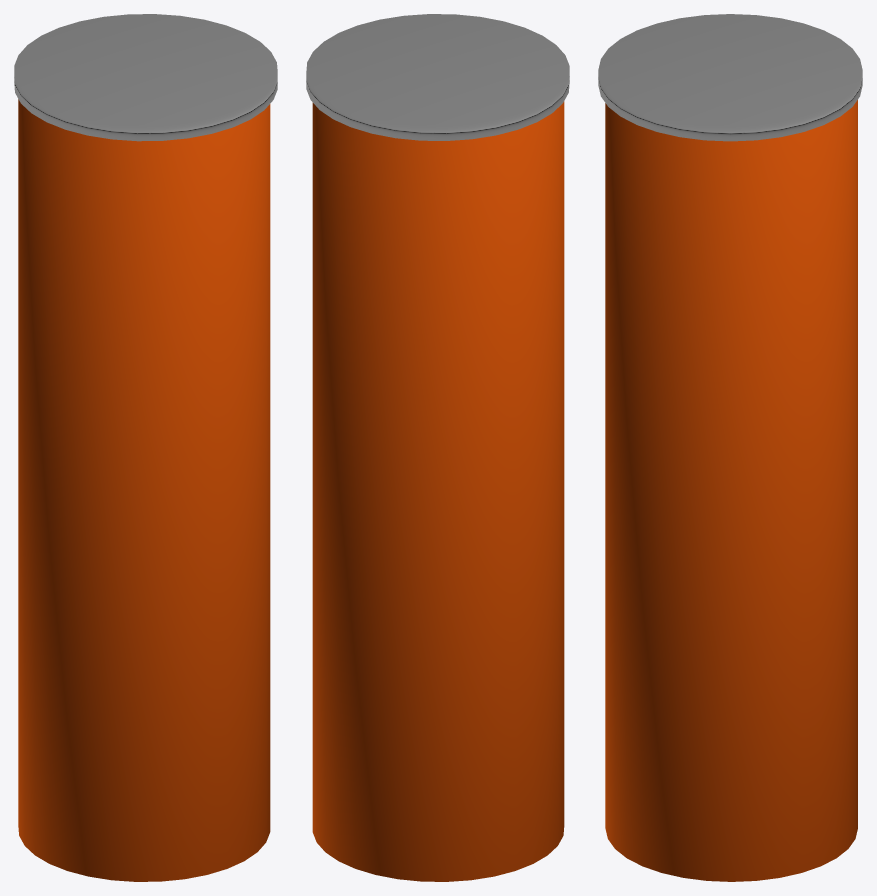
File: oranje.gltf
3 renders of one model, left to right at view 1: azimuth 30°, elevation 25°; view 2: azimuth 150°, elevation 25°; view 3: azimuth 270°, elevation 25°, orthographic.
Parts seen in each view (by area): view 1: Cylinder, Cylinder.001; view 2: Cylinder, Cylinder.001; view 3: Cylinder, Cylinder.001.
Boxes of the visible parts, x1,y1,x2,y2 form: Cylinder: [18, 99, 270, 881]; Cylinder.001: [14, 14, 277, 141]; Cylinder: [312, 101, 564, 881]; Cylinder.001: [306, 14, 569, 140]; Cylinder: [605, 100, 857, 881]; Cylinder.001: [598, 14, 862, 141].
Bounding box in the file's own units: 2.09 × 6.64 × 2.09.
